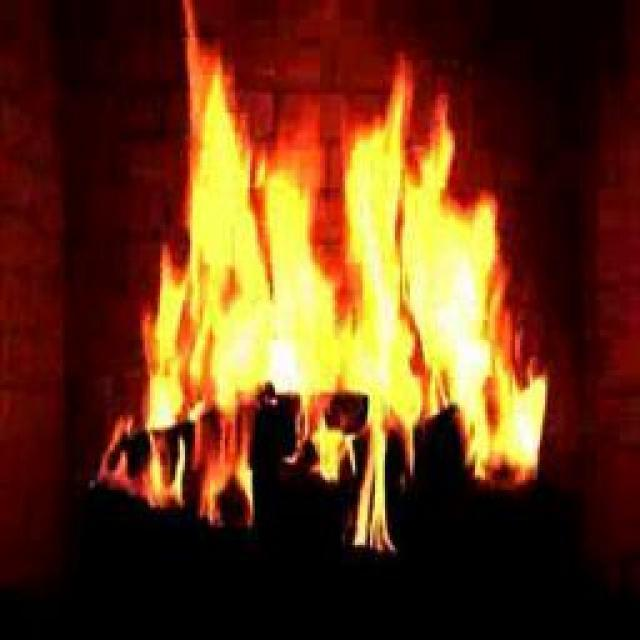Fire: (175, 42, 535, 474)
